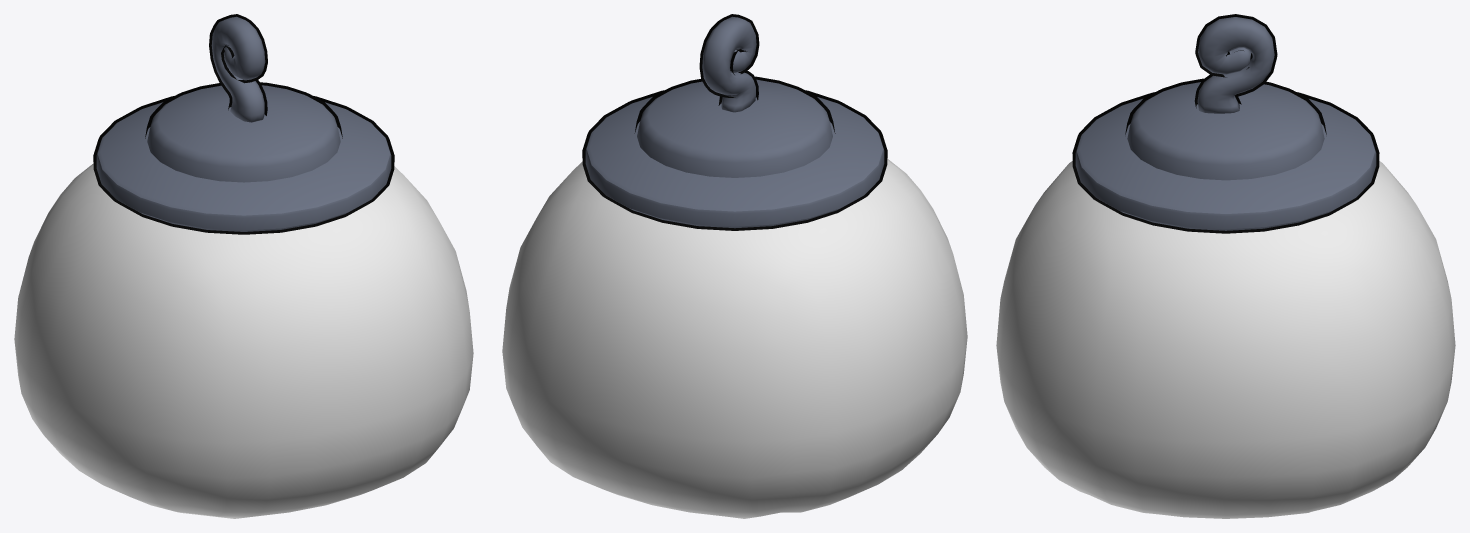
Rendered from grub-trapped.glb.
The picture shows the model from 3 angles, left to right: view 1: azimuth 30°, elevation 25°; view 2: azimuth 150°, elevation 25°; view 3: azimuth 270°, elevation 25°; orthographic projection.
Visible parts, largest first — view 1: Jar.001, Cube.002, Plane.002, Cube.004, Plane.003; view 2: Jar.001, Cube.002, Plane.002, Cube.004, Plane.003; view 3: Jar.001, Cube.002, Plane.002, Cube.004, Plane.003.
Part boxes in pixels (box(x1,y1,x2,y2)): Jar.001: box(14, 163, 473, 518); Cube.002: box(96, 85, 391, 231); Plane.002: box(211, 16, 265, 122); Cube.004: box(93, 82, 394, 234); Plane.003: box(209, 14, 267, 115); Jar.001: box(502, 159, 967, 518); Cube.002: box(585, 79, 884, 228); Plane.002: box(702, 16, 756, 112); Cube.004: box(582, 76, 887, 230); Plane.003: box(699, 14, 759, 105); Jar.001: box(996, 161, 1455, 518); Cube.002: box(1075, 82, 1376, 230); Plane.002: box(1197, 17, 1274, 113); Cube.004: box(1072, 78, 1379, 233); Plane.003: box(1194, 14, 1277, 108).
Bounding box in the file's own units: 7.87 × 8.59 × 7.87.
